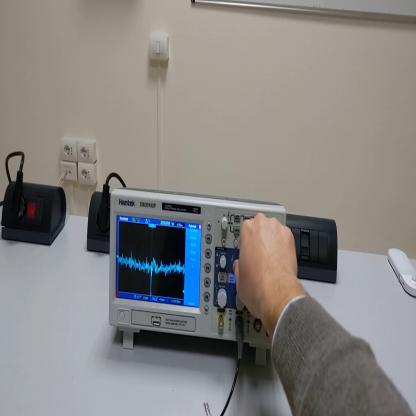hand: (233, 211, 301, 327)
oscilloscope: (109, 189, 287, 369)
socket: (2, 181, 67, 249), (87, 191, 108, 254)
